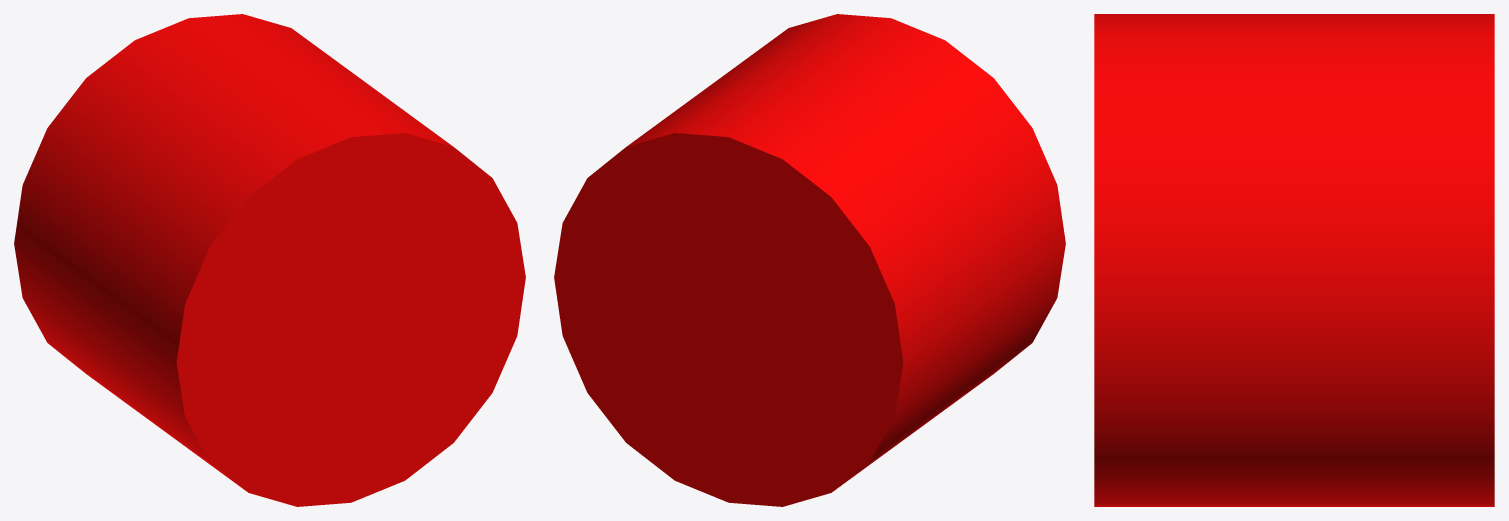
The model's file is Resaltado_Nervio_occipital_D_1.obj.
The picture shows the model from 3 angles, left to right: view 1: azimuth 30°, elevation 25°; view 2: azimuth 150°, elevation 25°; view 3: azimuth 270°, elevation 25°; orthographic projection. The views are drawn at different scales.
Visible parts, largest first — view 1: polySurface46 polySurface29 Marcadores1; view 2: polySurface46 polySurface29 Marcadores1; view 3: polySurface46 polySurface29 Marcadores1.
Part boxes in pixels (x1,y1,x2,y2): polySurface46 polySurface29 Marcadores1: [14, 14, 525, 506]; polySurface46 polySurface29 Marcadores1: [554, 14, 1065, 506]; polySurface46 polySurface29 Marcadores1: [1094, 14, 1494, 506].
Size of the model in its own units: 0.0375 by 0.0375 by 0.0302.
